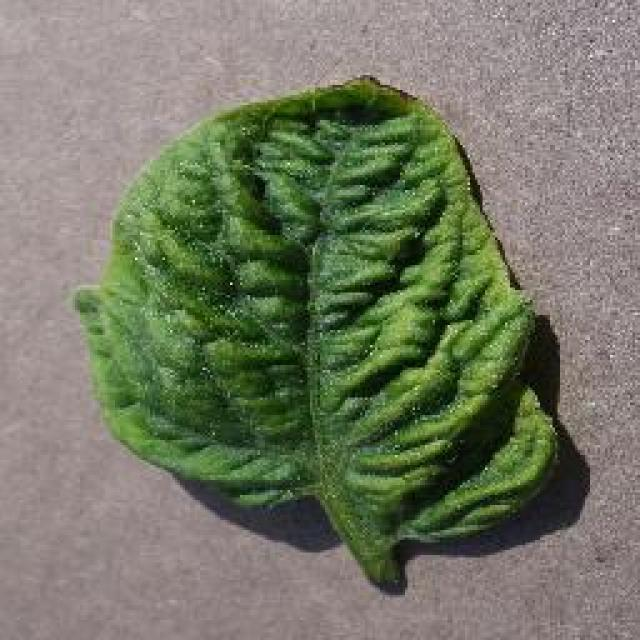Tomato yellow virus leaf: (71, 75, 556, 555)
